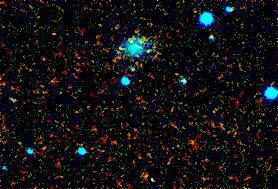star: (134, 35, 164, 65)
